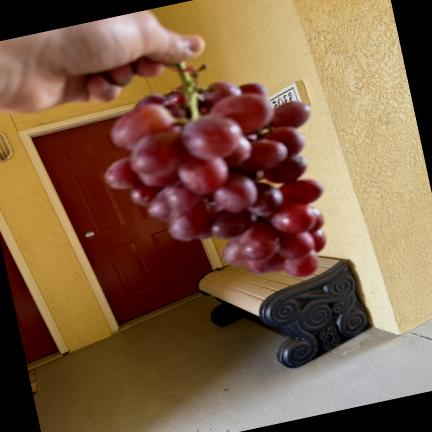grape_cluster: (105, 63, 325, 276)
